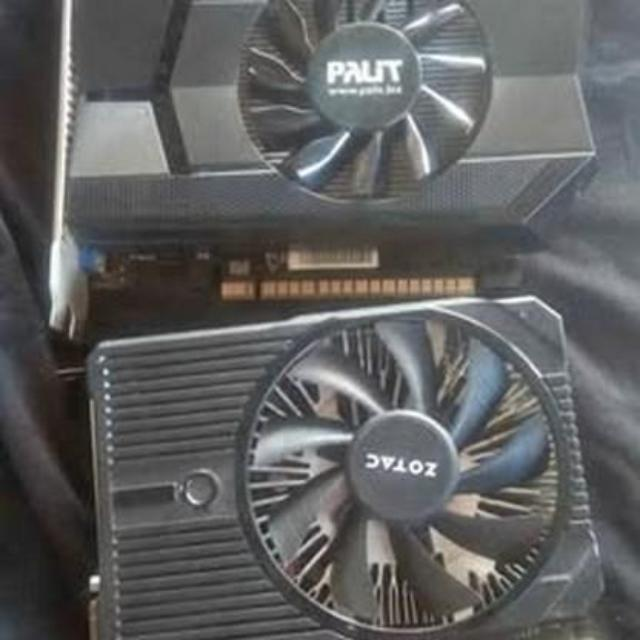GPU: (61, 295, 610, 640), (49, 0, 603, 295)
